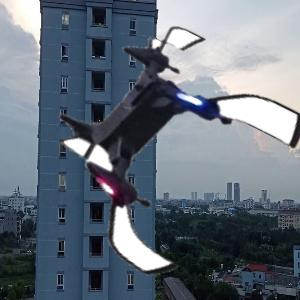drone: (43, 29, 293, 279)
